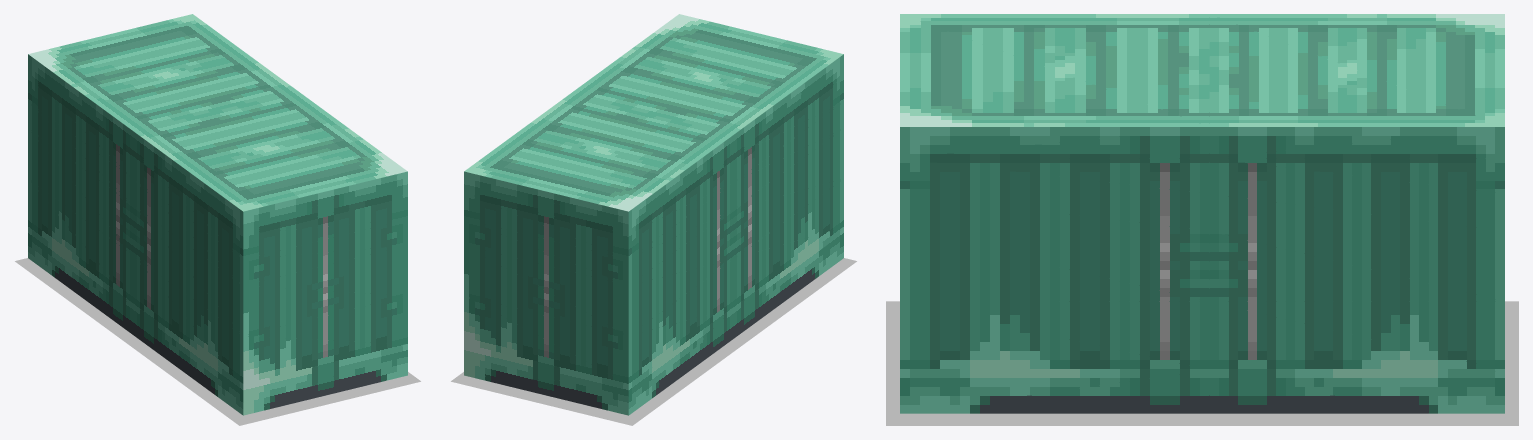
3 renders of one model, left to right at view 1: azimuth 30°, elevation 25°; view 2: azimuth 150°, elevation 25°; view 3: azimuth 270°, elevation 25°, orthographic. The views are drawn at different scales.
Visible parts, largest first — view 1: polygon0, polygon1, polygon2; view 2: polygon0, polygon1, polygon2; view 3: polygon0, polygon1, polygon2.
Part boxes in pixels (left/top/right/bottom): polygon0: left=28, top=54, right=407, bottom=415; polygon1: left=28, top=14, right=407, bottom=211; polygon2: left=15, top=258, right=420, bottom=425; polygon0: left=464, top=54, right=843, bottom=415; polygon1: left=464, top=14, right=843, bottom=211; polygon2: left=451, top=258, right=856, bottom=425; polygon0: left=900, top=127, right=1504, bottom=413; polygon1: left=900, top=14, right=1504, bottom=126; polygon2: left=886, top=301, right=1518, bottom=425.
Bounding box in the file's own units: 5.25 × 5.75 × 11.25.
